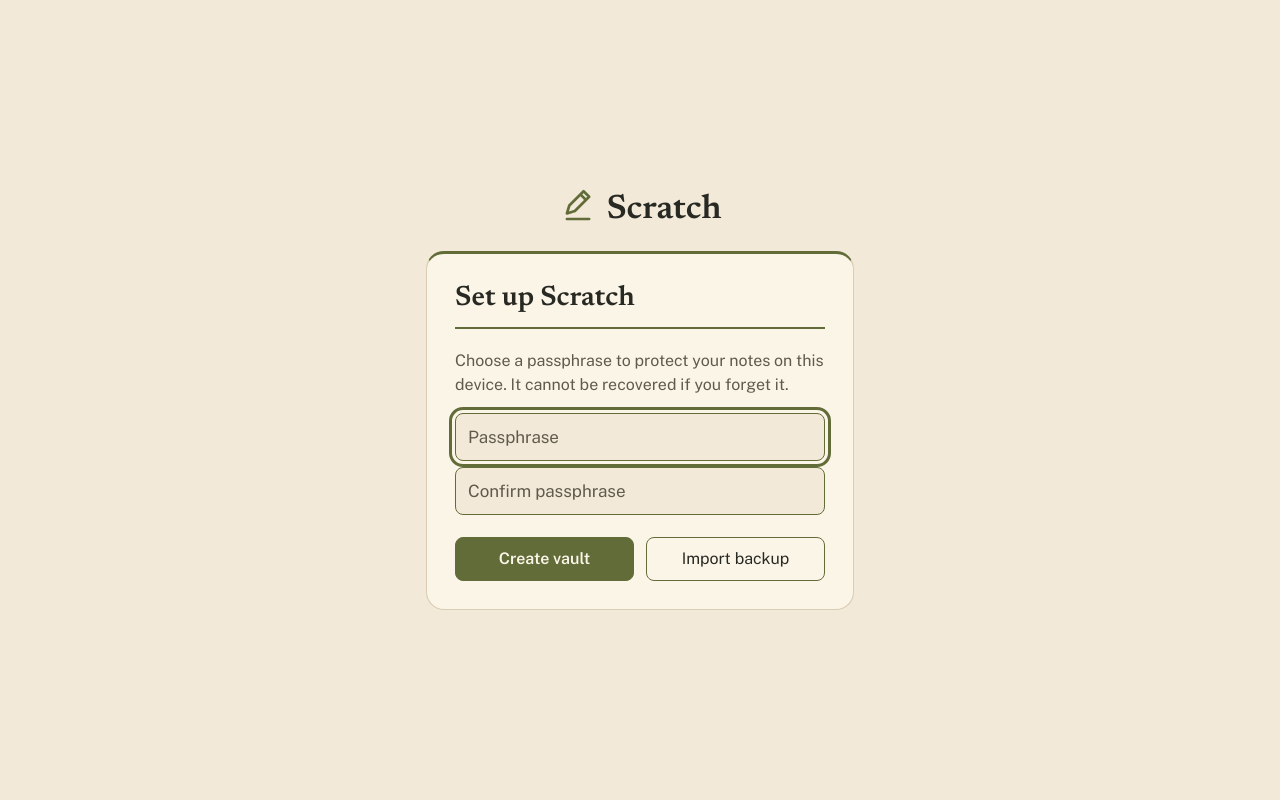
Scenario: vault session lifecycle › creates one empty vault from a confirmed passphrase and reaches Scratch
Type "correct horse battery staple" into the password field labelled "Passphrase" at (640, 437), box x1=455 y1=413 x2=825 y2=461
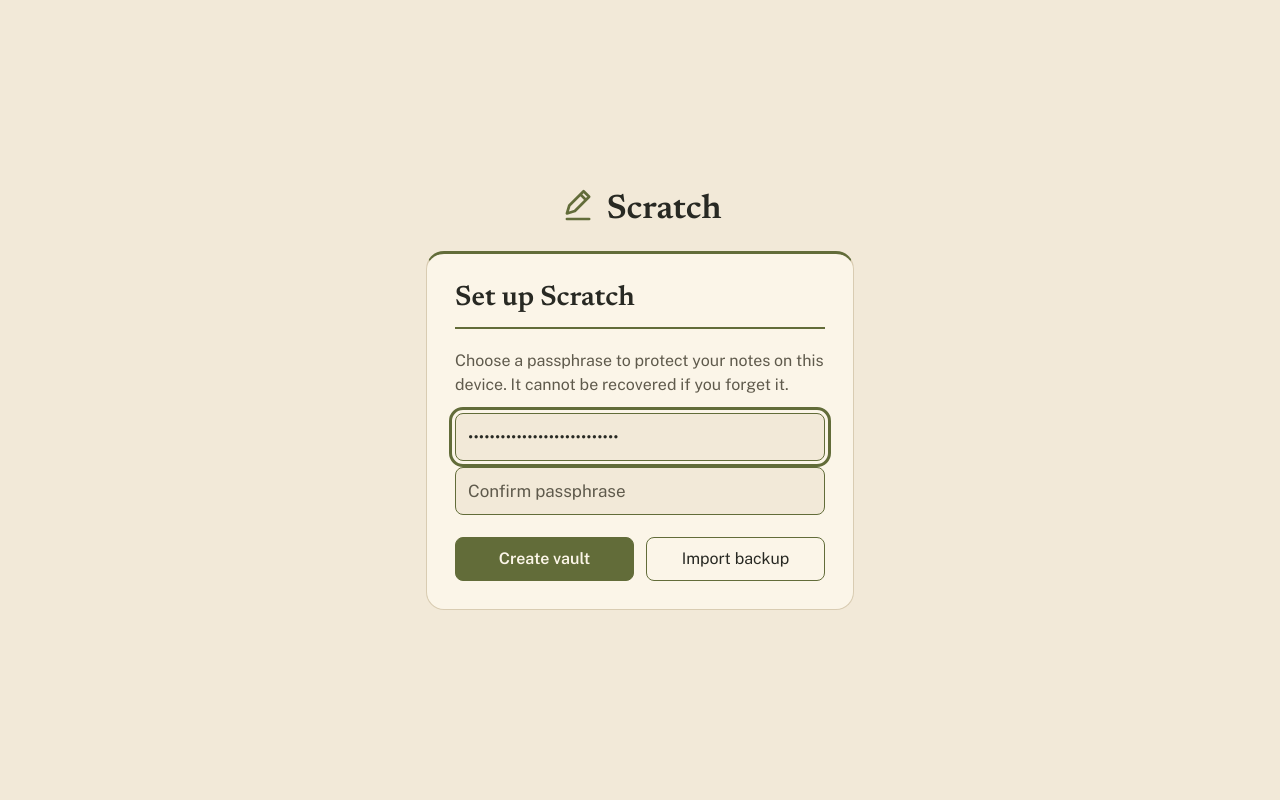
Type "correct horse battery staple" into the password field labelled "Confirm passphrase" at (640, 491), box x1=455 y1=467 x2=825 y2=515
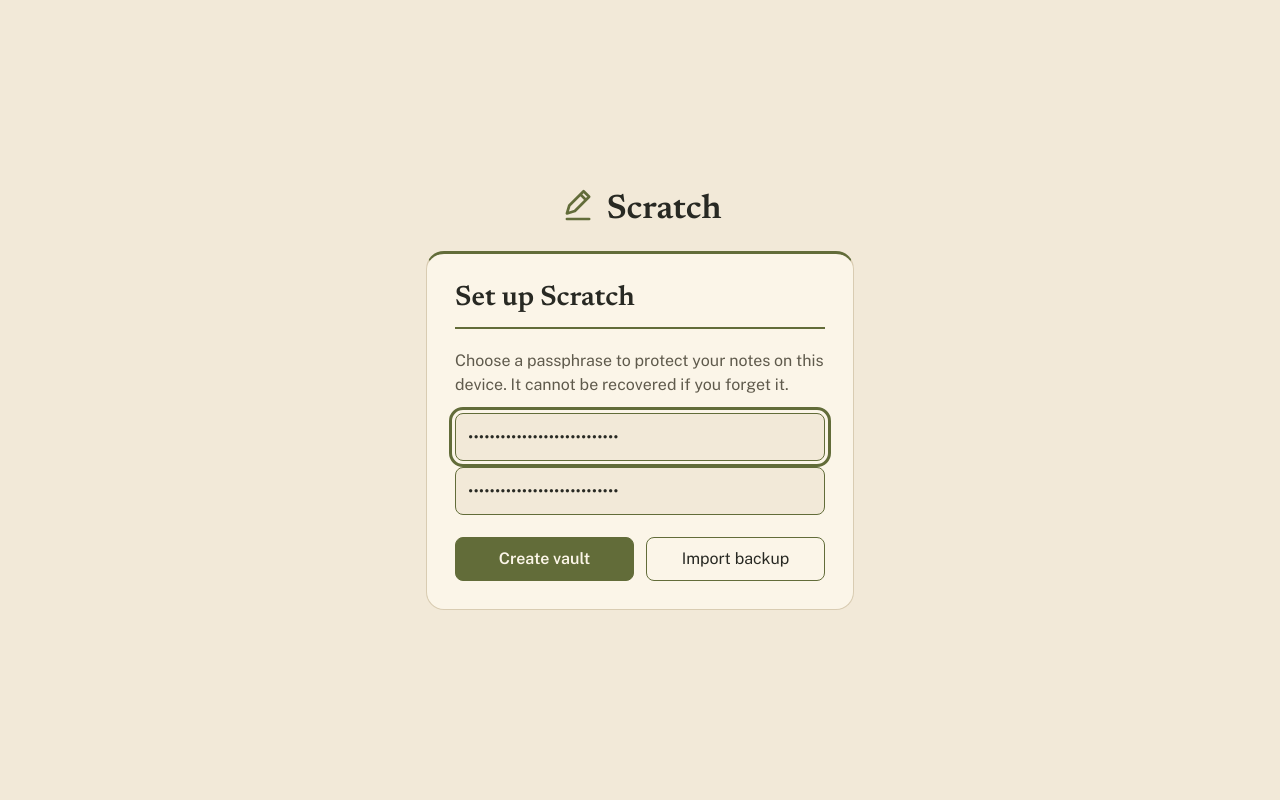
Click the button "Create vault" at (544, 559), box x1=455 y1=537 x2=634 y2=581
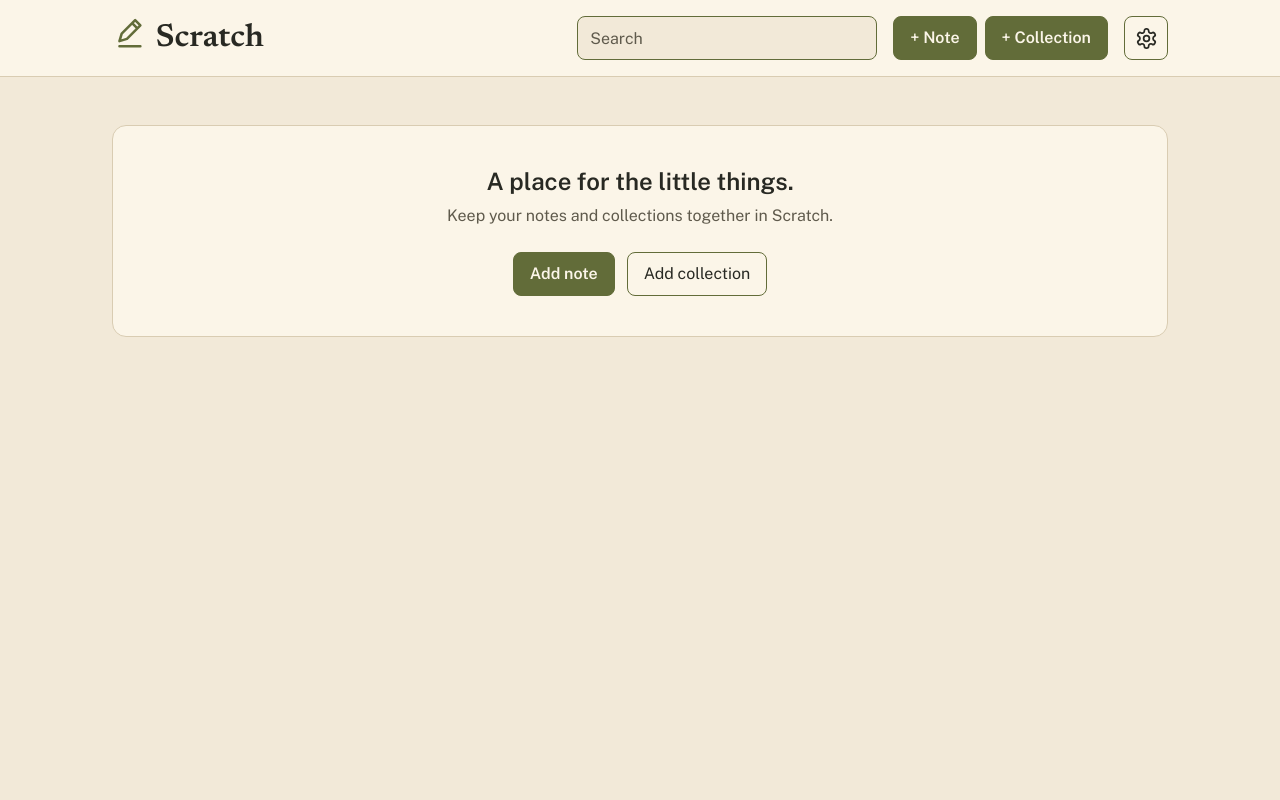
Expected: the heading "A place for the little things." is shown, x1=486 y1=167 x2=794 y2=195
